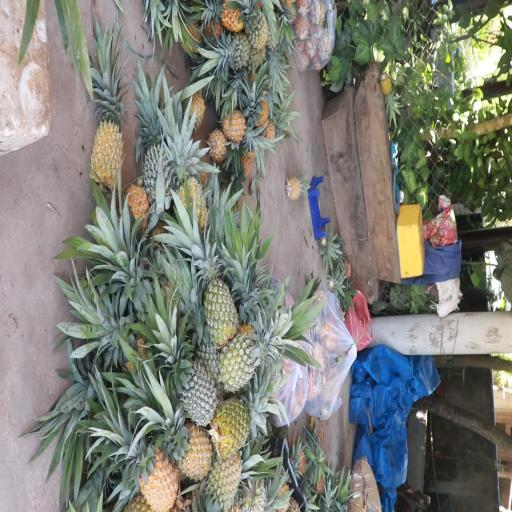------------------------------: (220, 311, 282, 390), (192, 236, 238, 341), (213, 388, 280, 450)
Pineapple - v8 v1: (101, 406, 178, 511), (138, 383, 212, 475), (86, 59, 124, 193), (171, 132, 210, 236), (216, 101, 267, 154), (206, 448, 244, 512)
